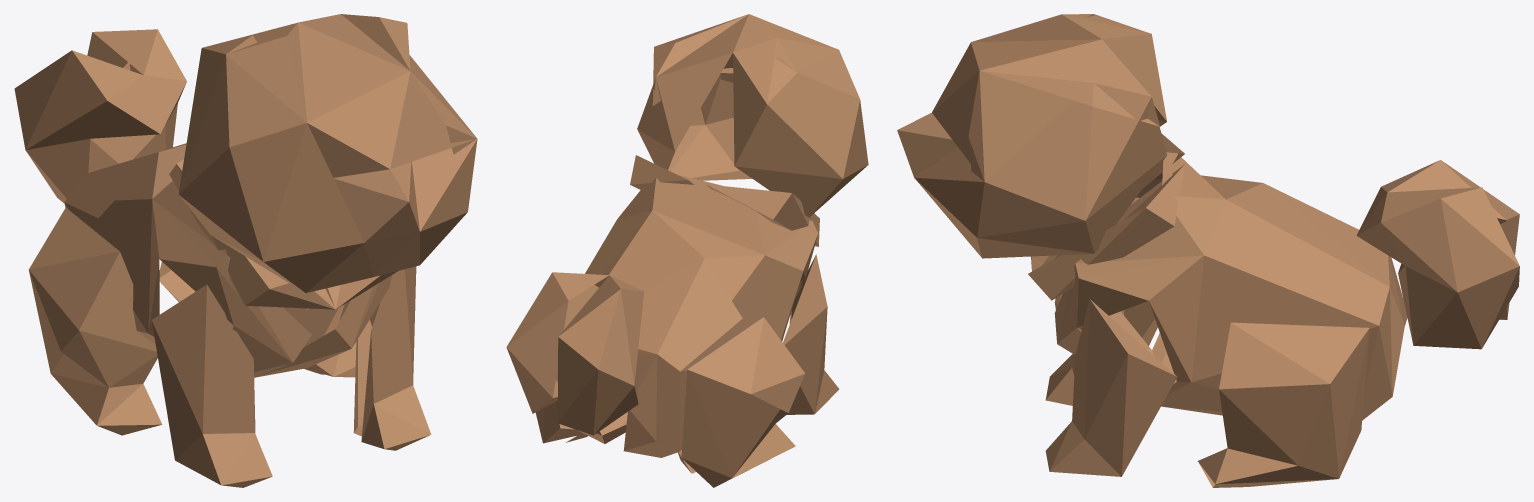
File: shiba.gltf
The picture shows the model from 3 angles, left to right: view 1: azimuth 30°, elevation 25°; view 2: azimuth 150°, elevation 25°; view 3: azimuth 270°, elevation 25°; orthographic projection. The views are drawn at different scales.
Visible parts, largest first — view 1: node; view 2: node; view 3: node.
Boxes of the visible parts, x1=… form: node: x1=14, y1=14, x2=477, y2=487; node: x1=506, y1=14, x2=868, y2=487; node: x1=897, y1=14, x2=1519, y2=487.
Size of the model in its own units: 0.9088 by 1.27 by 1.74.
